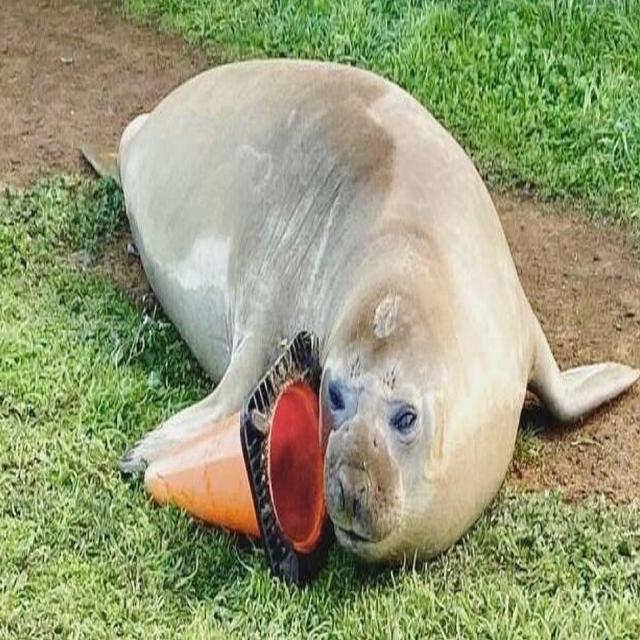WaterDog: (84, 51, 640, 545)
